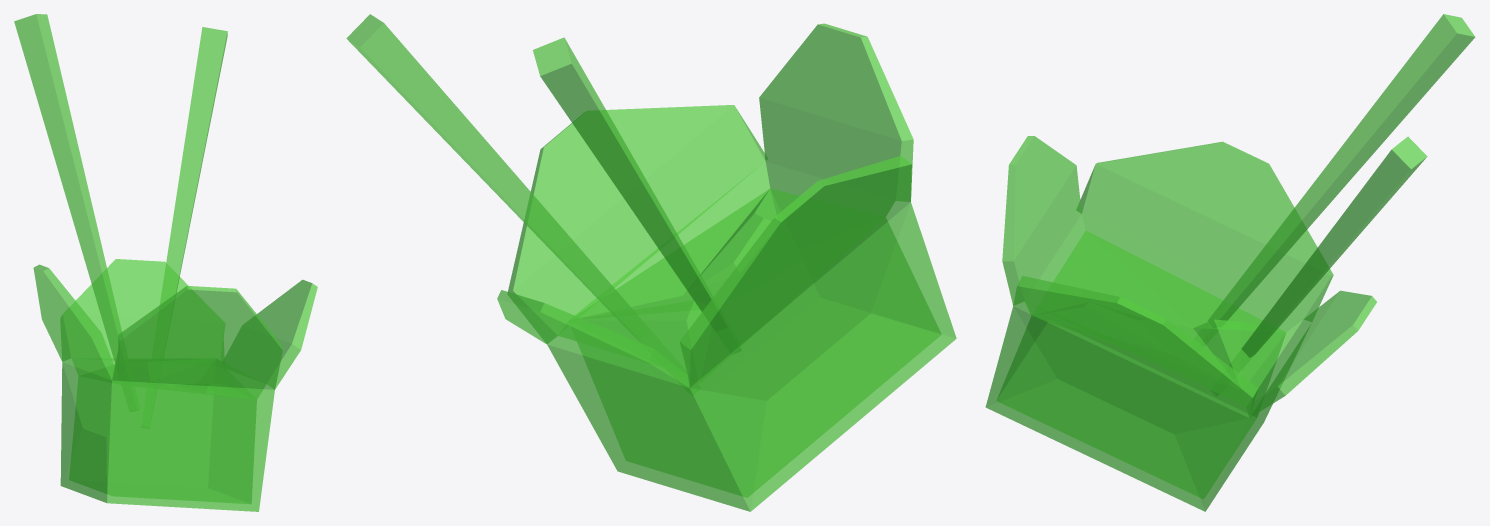
The model's file is scifi-scifi-hologram-food.glb.
The picture shows the model from 3 angles, left to right: view 1: azimuth 30°, elevation 25°; view 2: azimuth 150°, elevation 25°; view 3: azimuth 270°, elevation 25°; orthographic projection. The views are drawn at different scales.
Visible parts, largest first — view 1: scifi-hologram-food; view 2: scifi-hologram-food; view 3: scifi-hologram-food.
Part boxes in pixels (x1,y1,x2,y2): scifi-hologram-food: (14,14,317,511); scifi-hologram-food: (346,14,956,511); scifi-hologram-food: (985,14,1475,511).
Size of the model in its own units: 2.45 by 3.41 by 3.28.
